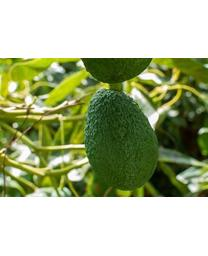avocado: (85, 88, 160, 191)
